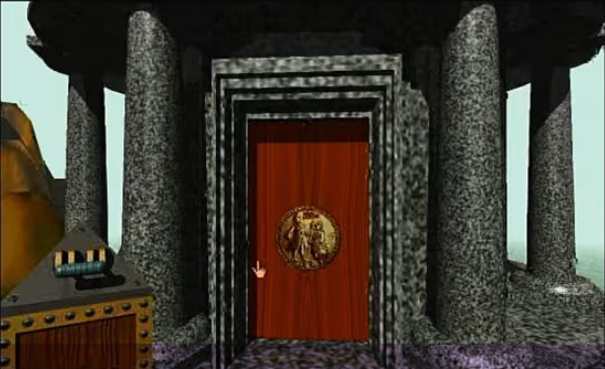Pointer: (249, 256, 270, 280)
